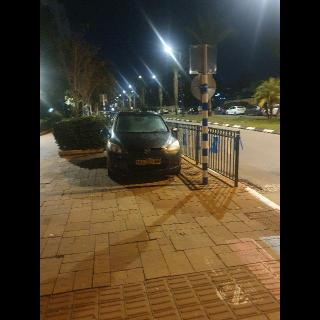LicensePlate: (138, 160, 161, 164)
